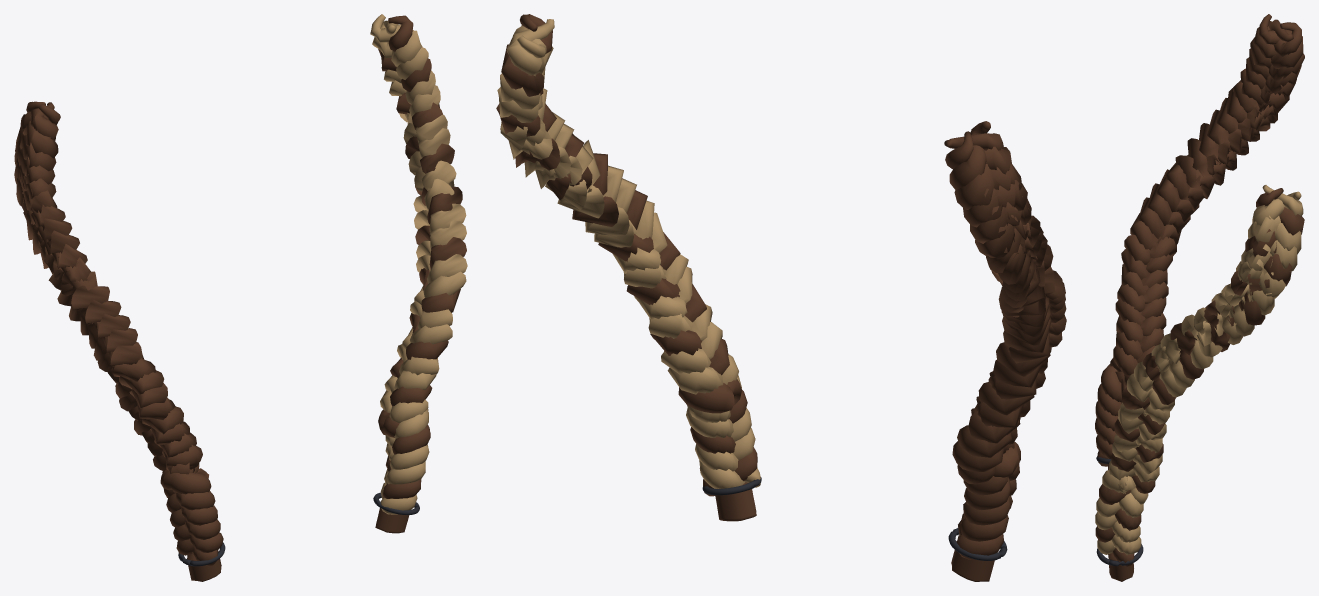
Rendered from Highlights-26bebec86d52251-hair.glb.
The picture shows the model from 3 angles, left to right: view 1: azimuth 30°, elevation 25°; view 2: azimuth 150°, elevation 25°; view 3: azimuth 270°, elevation 25°; orthographic projection. The views are drawn at different scales.
Parts seen in each view (by area): view 1: 226 hairLengths / Hair / chestnut226, 226 hairLengths / Hair / ties226; view 2: 226 hairLengths / Hair / chestnut226, 226 hairLengths / Hair / ties226; view 3: 226 hairLengths / Hair / chestnut226, 226 hairLengths / Hair / ties226.
Boxes of the visible parts, <box> form: 226 hairLengths / Hair / chestnut226: <box>14,14,467,581</box>; 226 hairLengths / Hair / ties226: <box>178,492,419,566</box>; 226 hairLengths / Hair / chestnut226: <box>496,14,1066,581</box>; 226 hairLengths / Hair / ties226: <box>702,477,1007,560</box>; 226 hairLengths / Hair / chestnut226: <box>1095,14,1304,581</box>; 226 hairLengths / Hair / ties226: <box>1096,456,1143,566</box>.
Bounding box in the file's own units: 1.03 × 1.06 × 0.4665.
